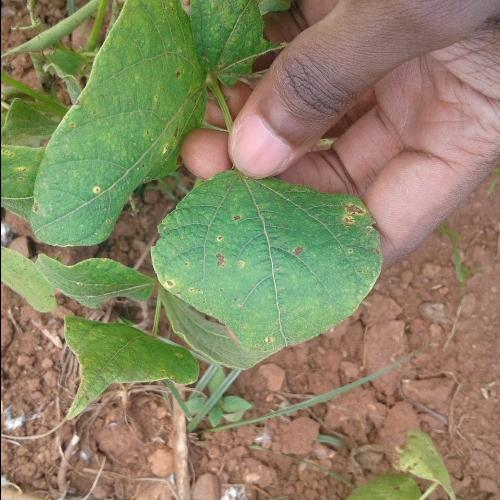hawar: (210, 184, 264, 316), (319, 181, 372, 290), (88, 153, 117, 210)
